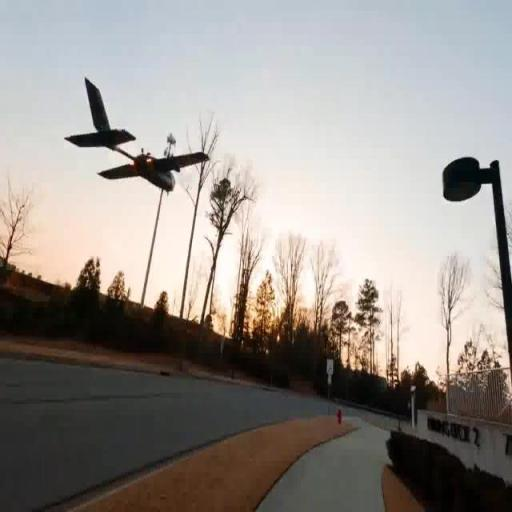uav: (64, 76, 212, 200)
